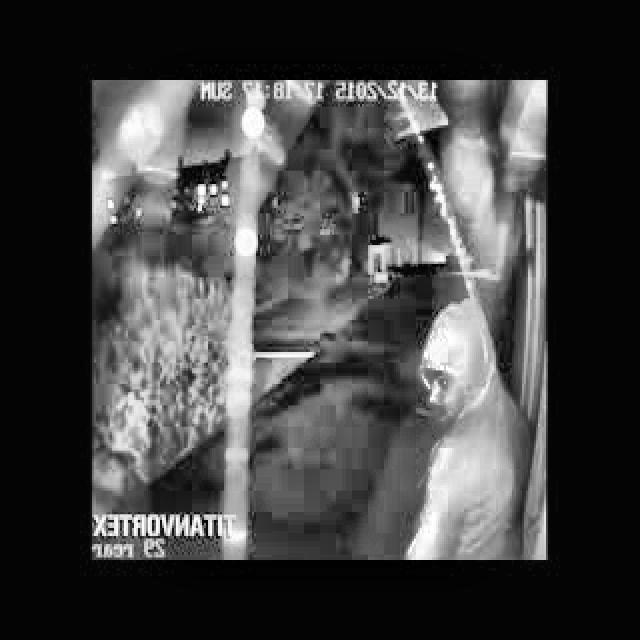burglary: (394, 247, 544, 557)
